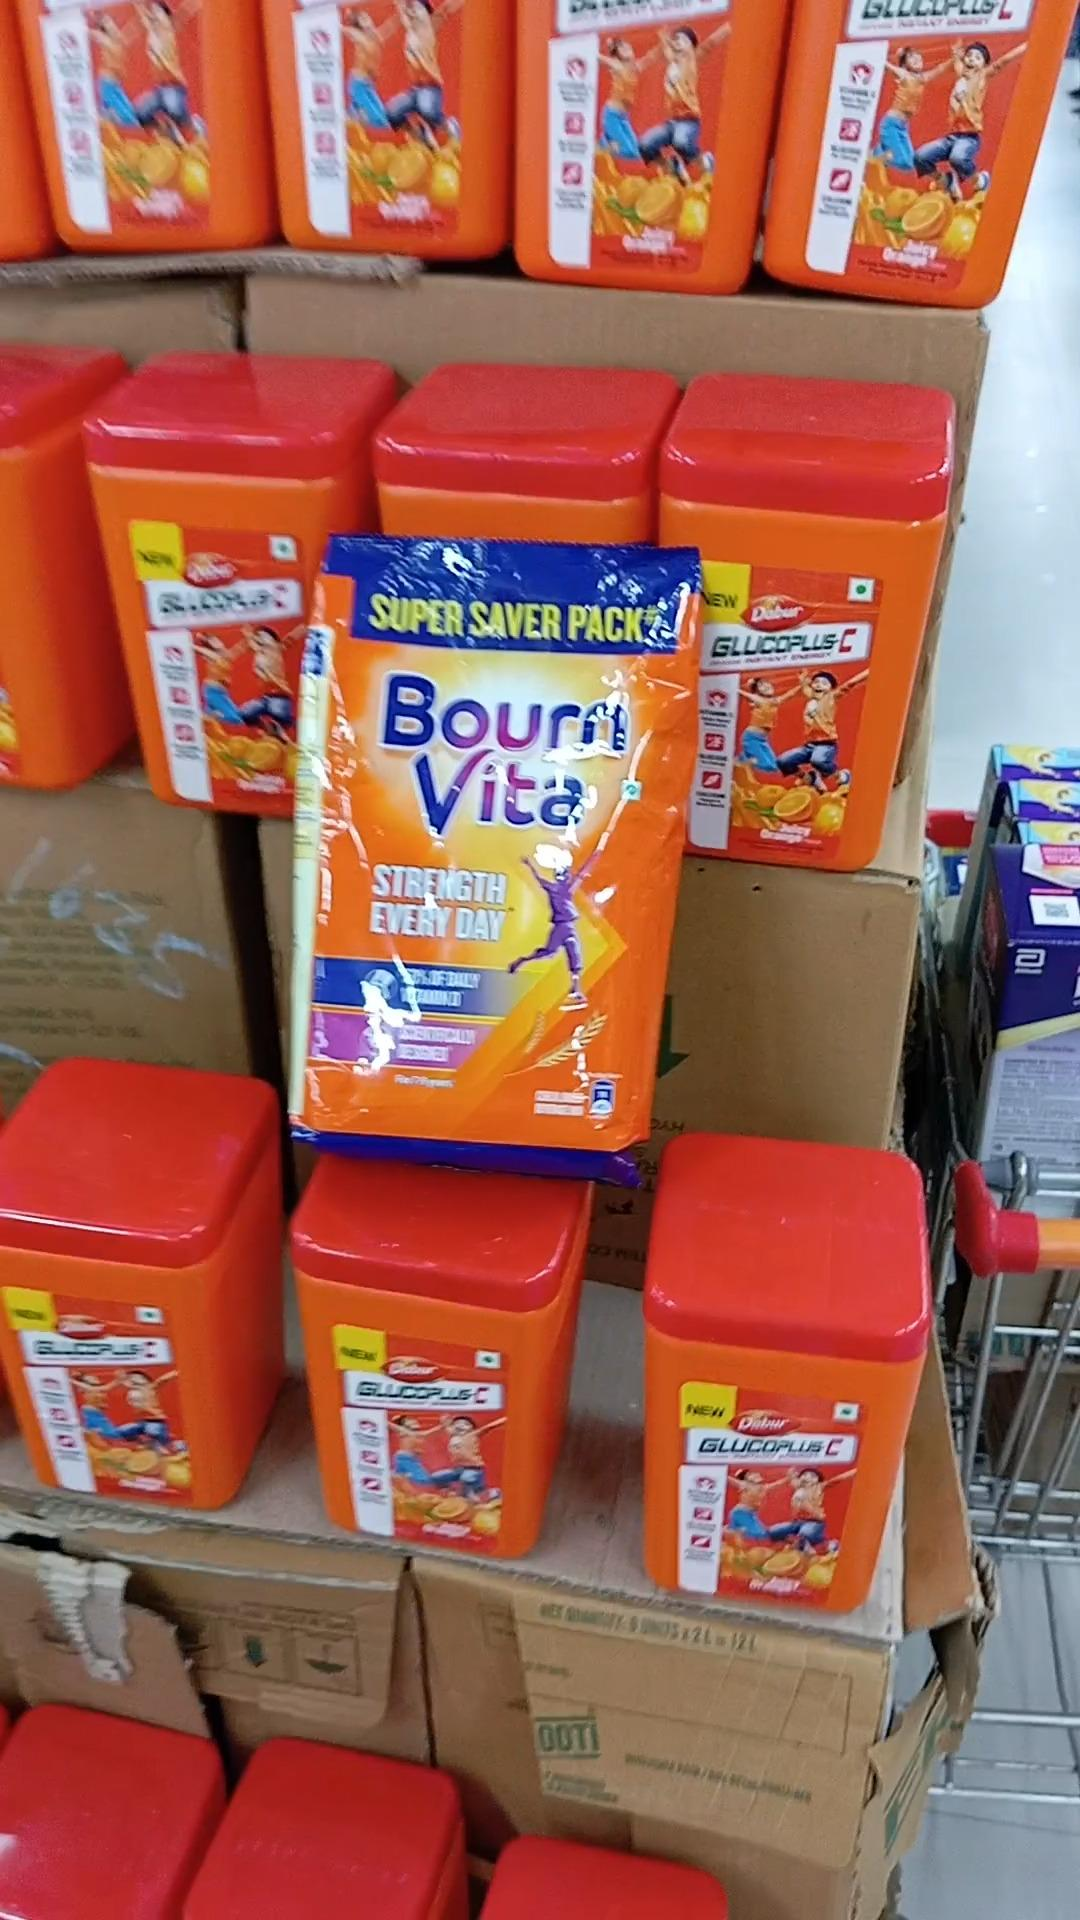BOURN_VITA_1_KG_POUCH: (297, 524, 642, 1178)
